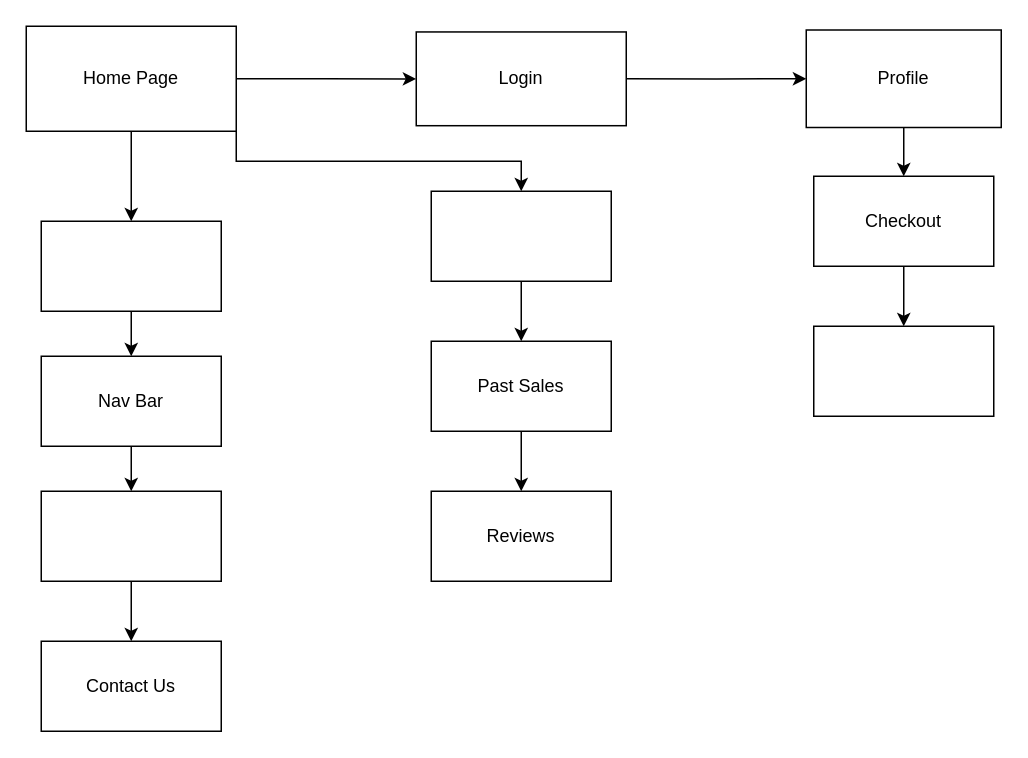
Some shapes in this 1028 by 758 pixel diagram are drawn without their labels. Each missing label, with the centre of its shape:
"About Us" goes at point (130, 265).
"Our Mission" goes at point (130, 535).
"Products" goes at point (520, 235).
"Thank you" goes at point (903, 370).
